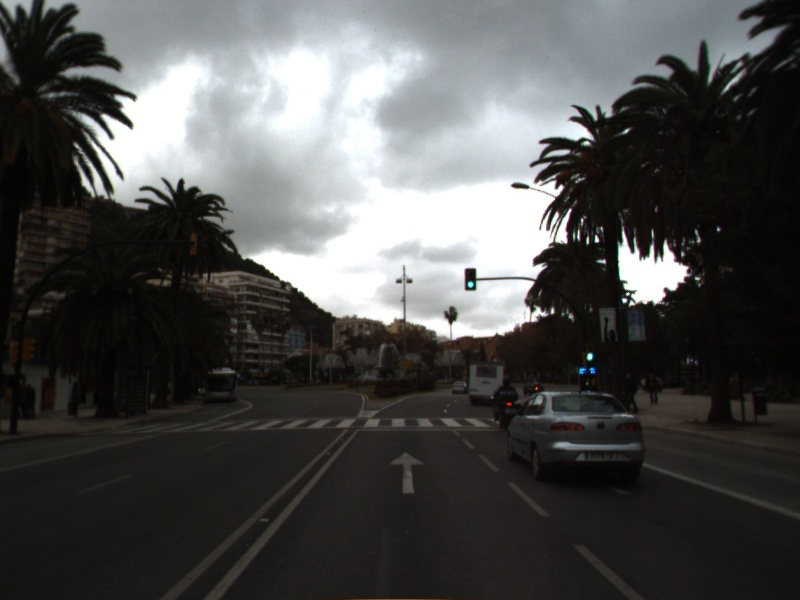STRAIGHT: (387, 450, 427, 496)
